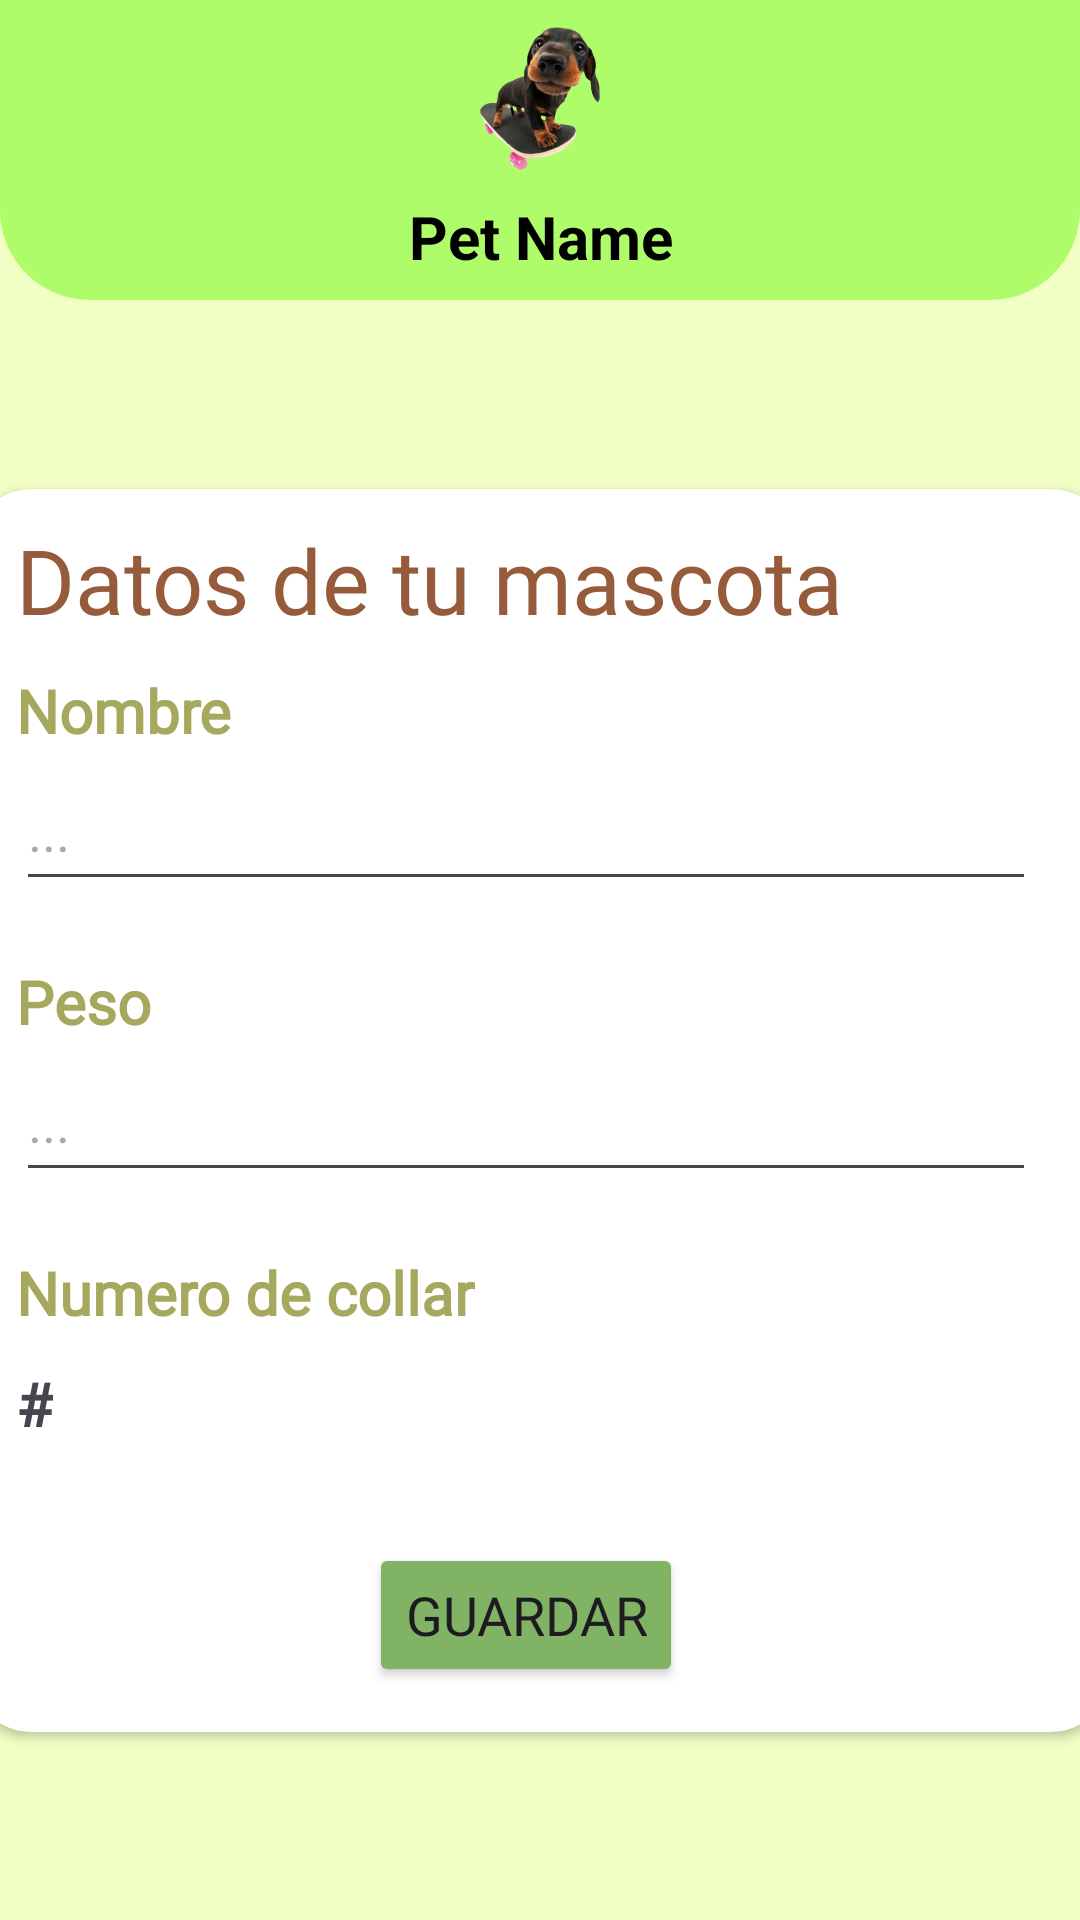

Screen size 1080×1920. Icon name, then its box in pixels as bbox=[x1, y1, x2, y2]:
doggy: bbox=[480, 27, 600, 170]
